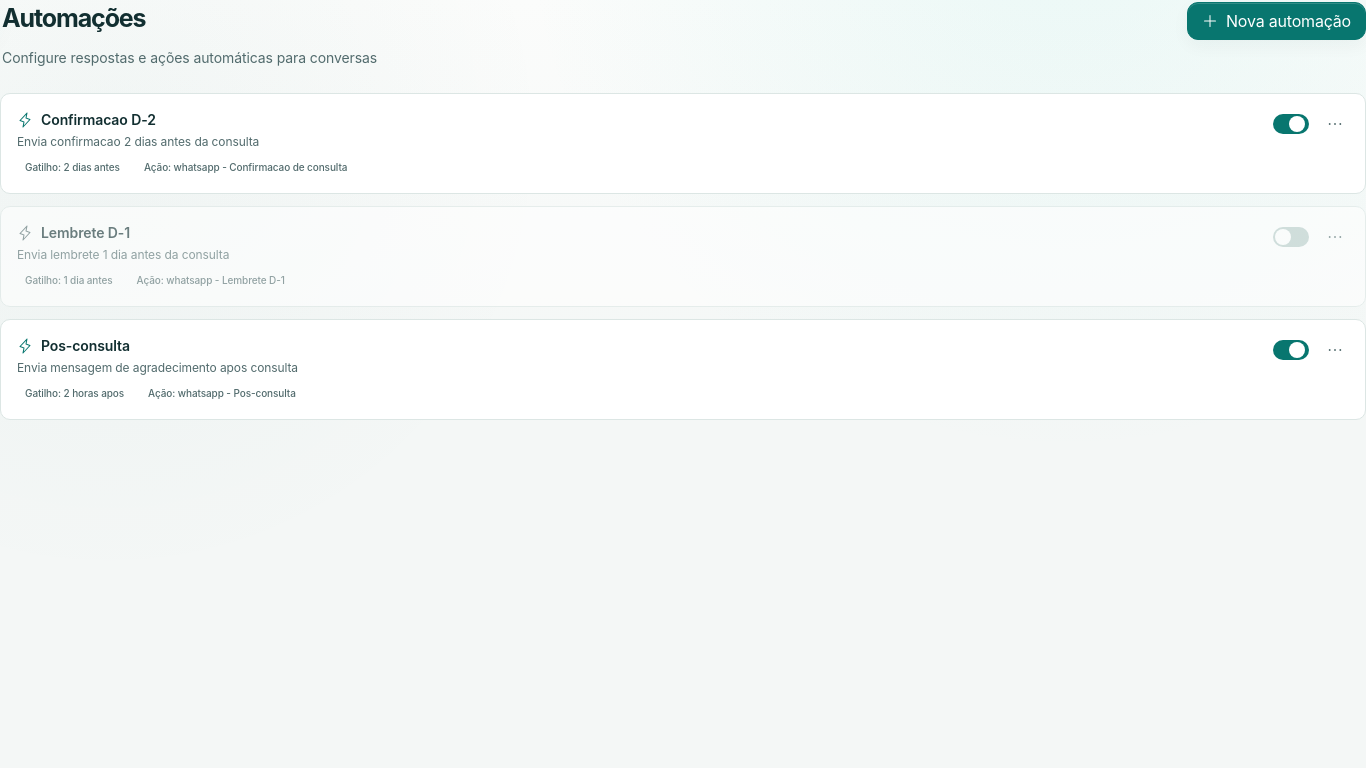
Test: tela Automações de Conversa › abre formulário preenchido ao clicar Editar
This screenshot has width=1366, height=768.
Check: the text "Confirmacao D-2" is shown, box [41,110,156,130]
Abrir menu do primeiro card
Click the button named "ações de" at (1335, 124), box [1321,110,1349,138]
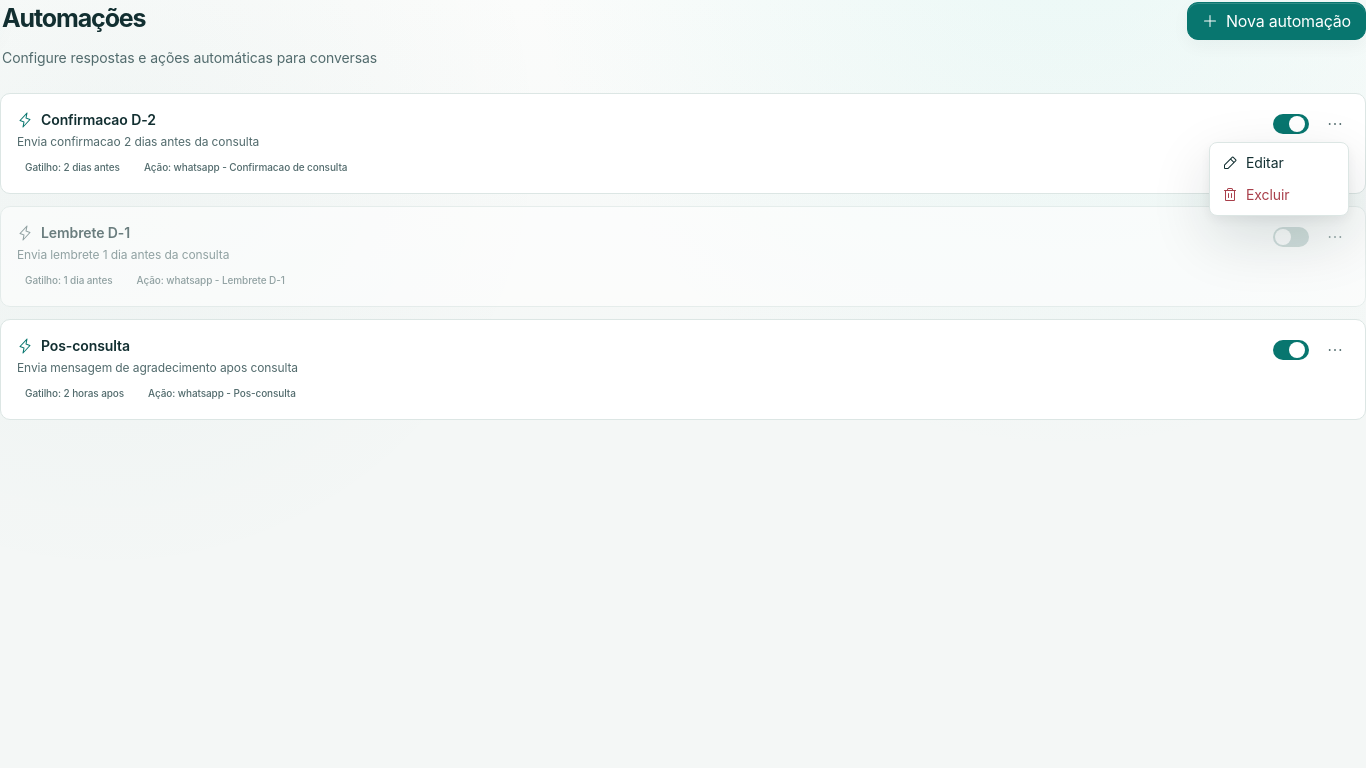
Check: the menu item "Editar" is shown
Click the menu item "Editar" at (1253, 162), box [1222,154,1284,171]
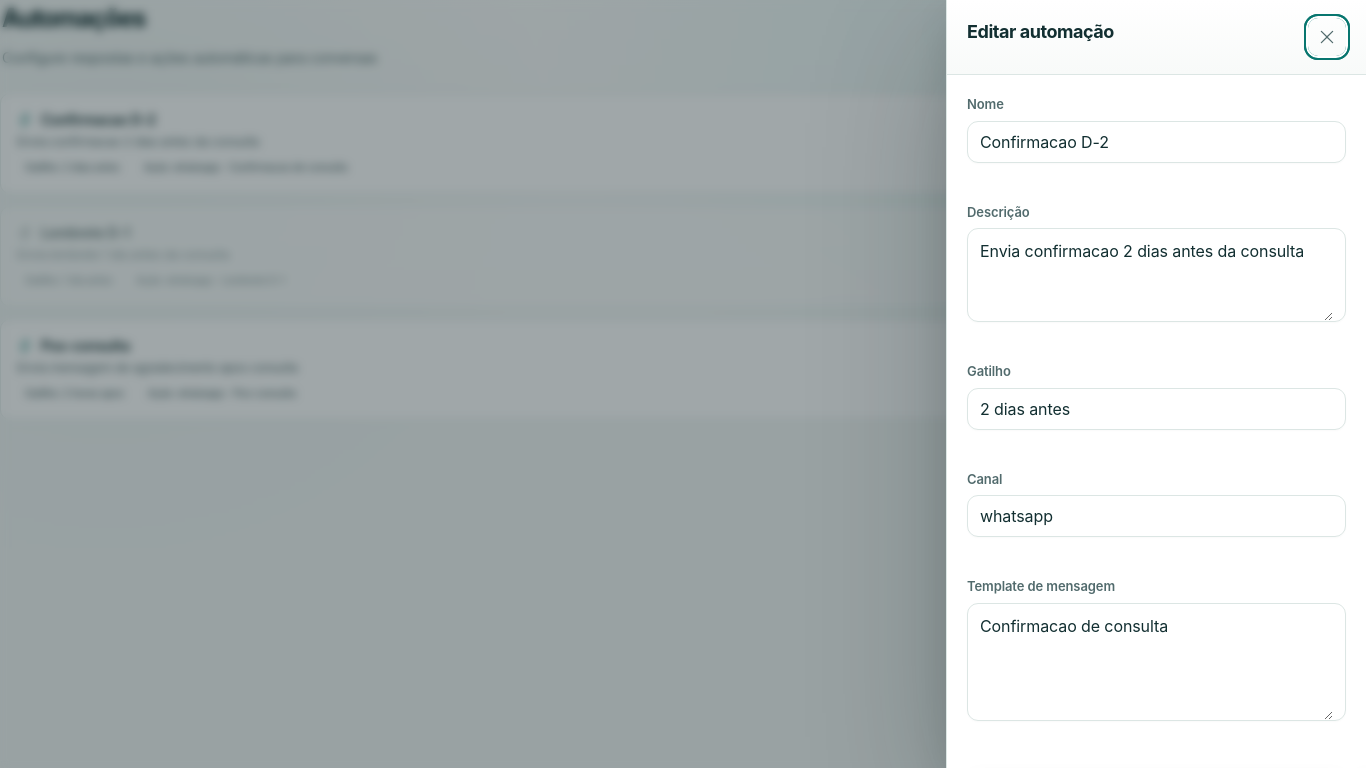
Check: the heading "Editar automação" is shown, box [967,18,1114,45]
